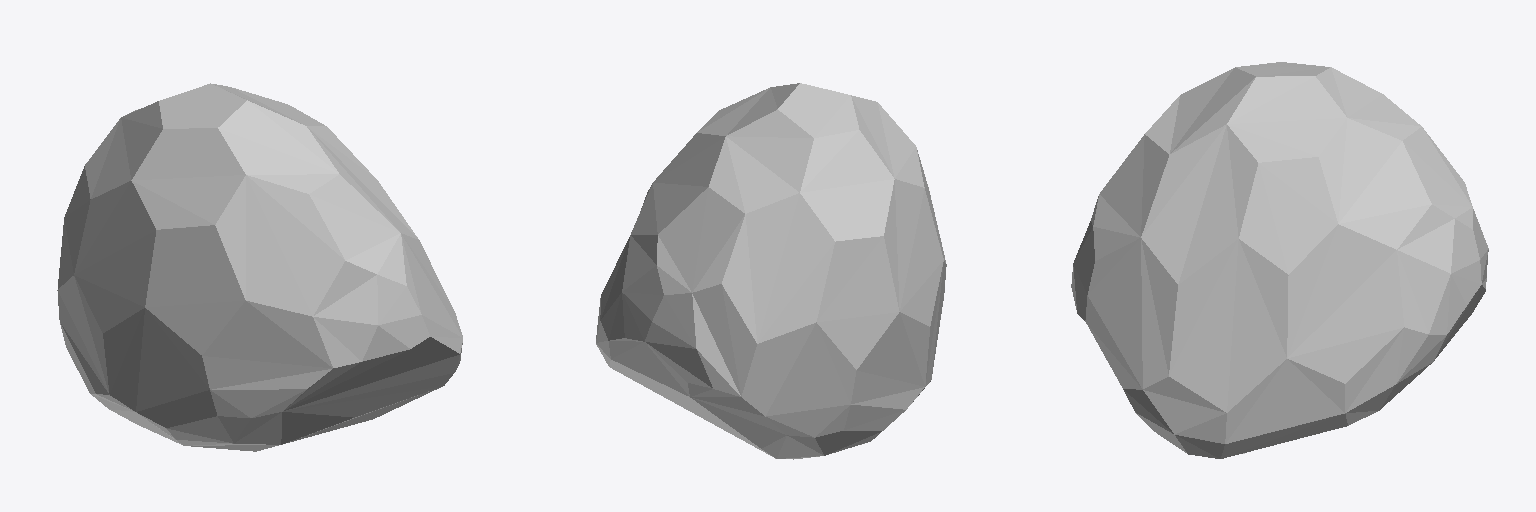
The model's file is big_stone.obj.
The picture shows the model from 3 angles: view 1: azimuth 30°, elevation 25°; view 2: azimuth 150°, elevation 25°; view 3: azimuth 270°, elevation 25°; orthographic projection.
Visible parts, largest first — view 1: Icosphere.046; view 2: Icosphere.046; view 3: Icosphere.046.
Part boxes in pixels (bbox=[...]): Icosphere.046: bbox=[57, 83, 462, 451]; Icosphere.046: bbox=[596, 83, 946, 459]; Icosphere.046: bbox=[1071, 62, 1488, 458].
Bounding box in the file's own units: 0.8192 × 0.8407 × 0.939.